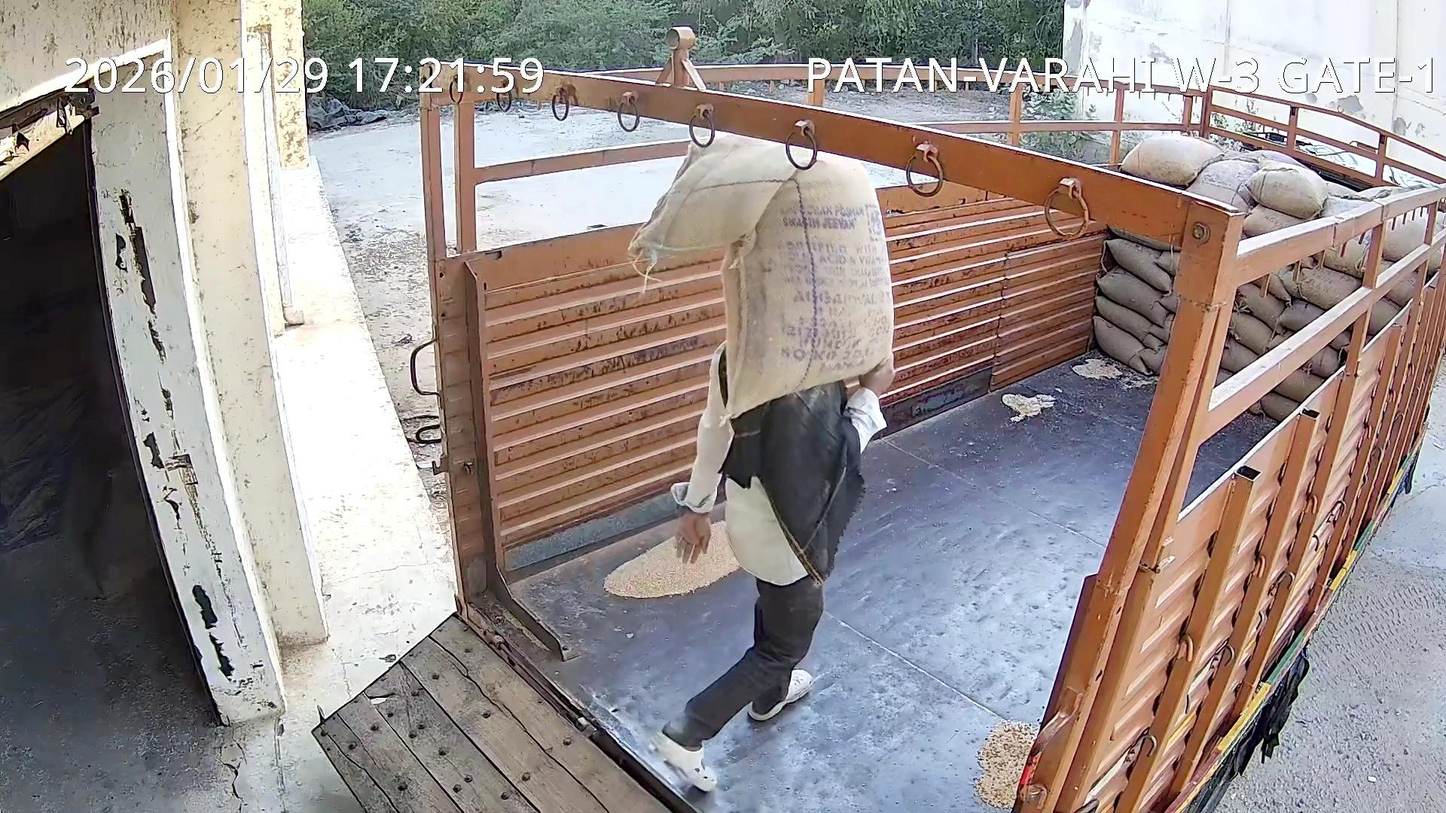Sack: (630, 132, 893, 413)
